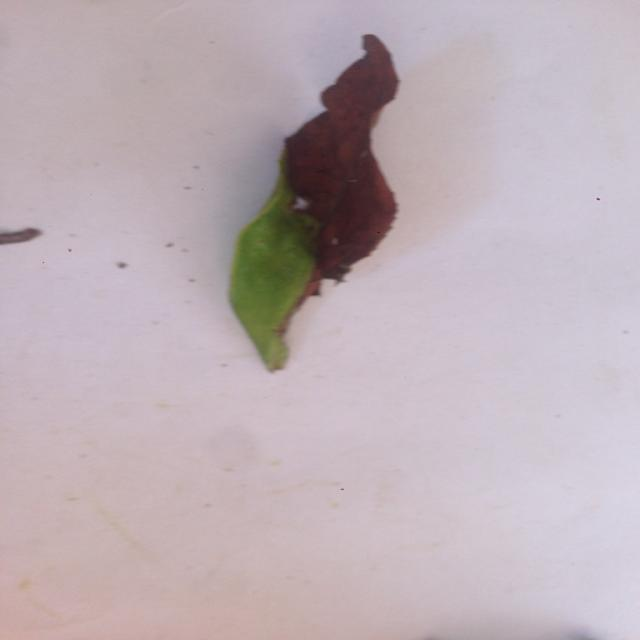Brown Blight: (195, 26, 445, 374)
